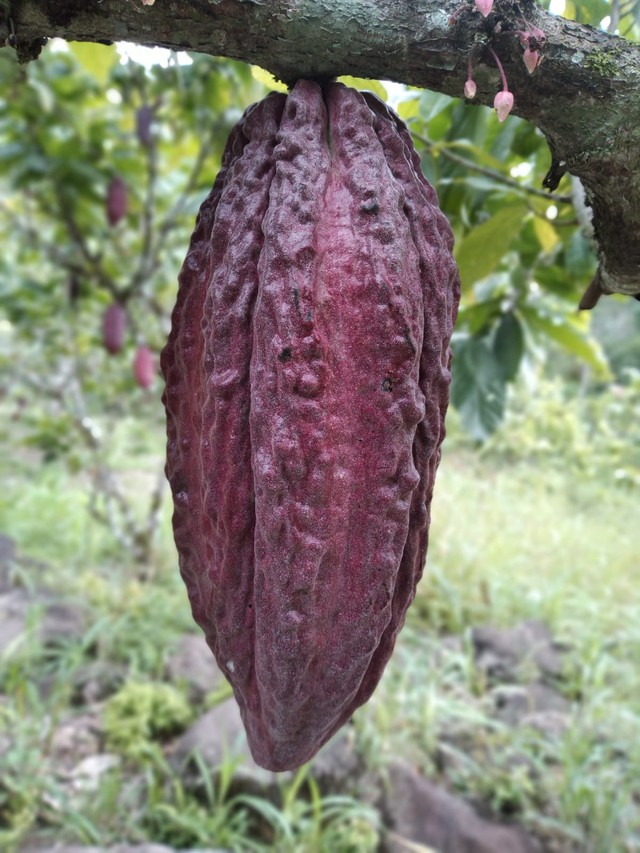moniliophthora perniciosa: (149, 36, 471, 787)
